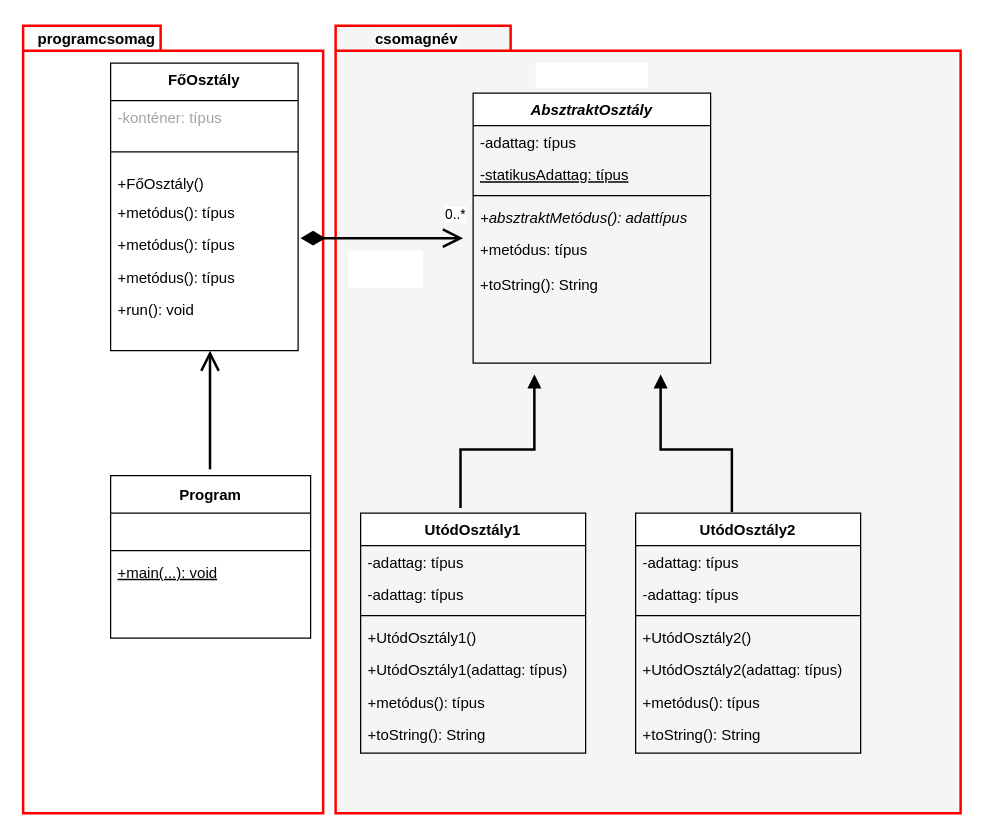
This 983x835 diagram has some shape labels left out. Each missing label, with the centre of its shape:
<<abstract>>: [591,75]
{konténer: típus}: [385,269]
